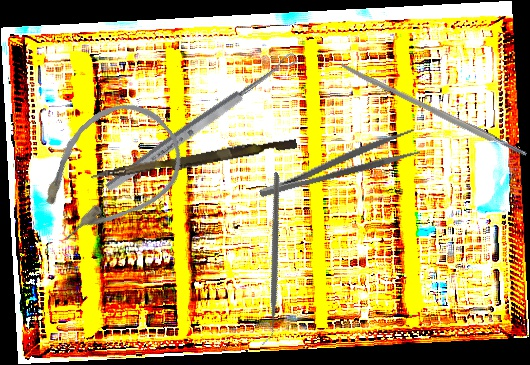Cannula: (16, 84, 200, 261)
Chopper: (190, 171, 349, 346)
Dressing Forceps: (254, 127, 421, 202)
Pusher: (90, 133, 298, 188)
Scalpel Handle: (339, 61, 528, 160)
Surgical Spoon: (103, 50, 300, 195)
